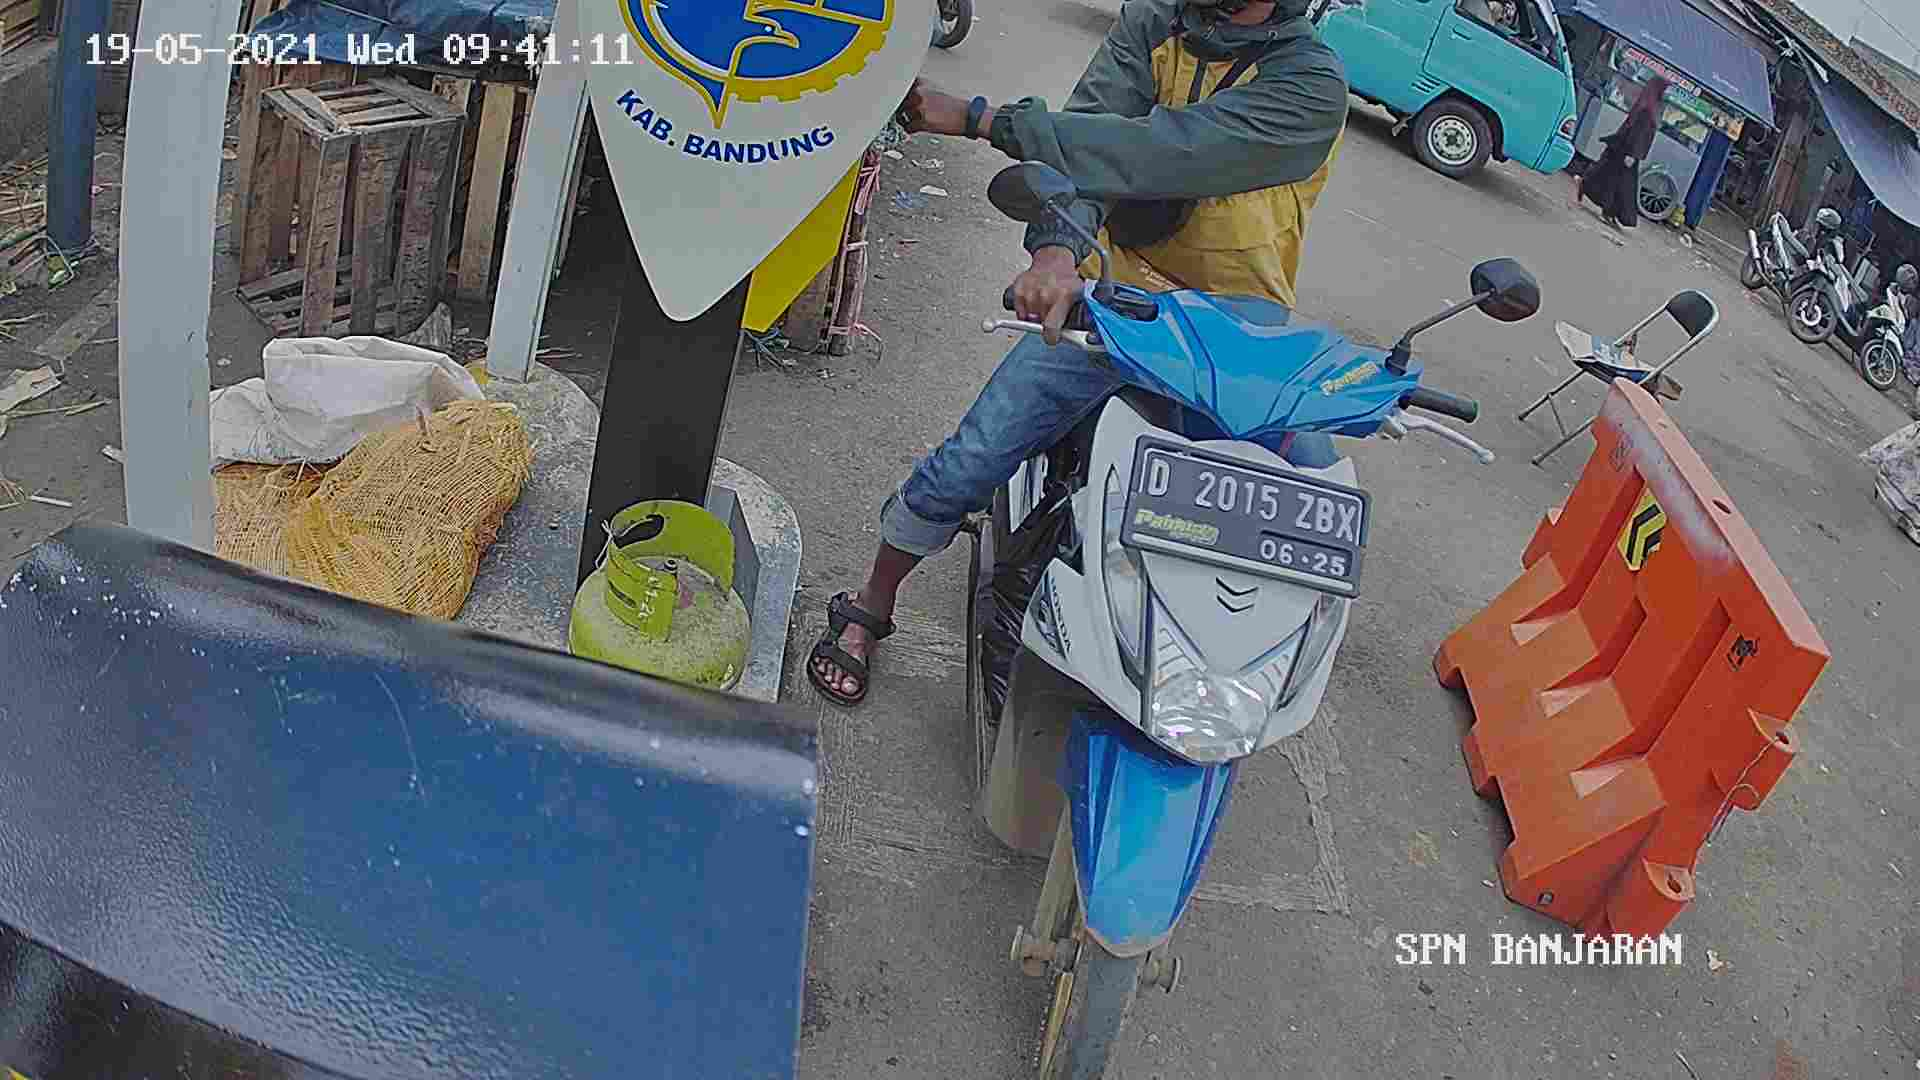motor: (945, 262, 1411, 1080)
